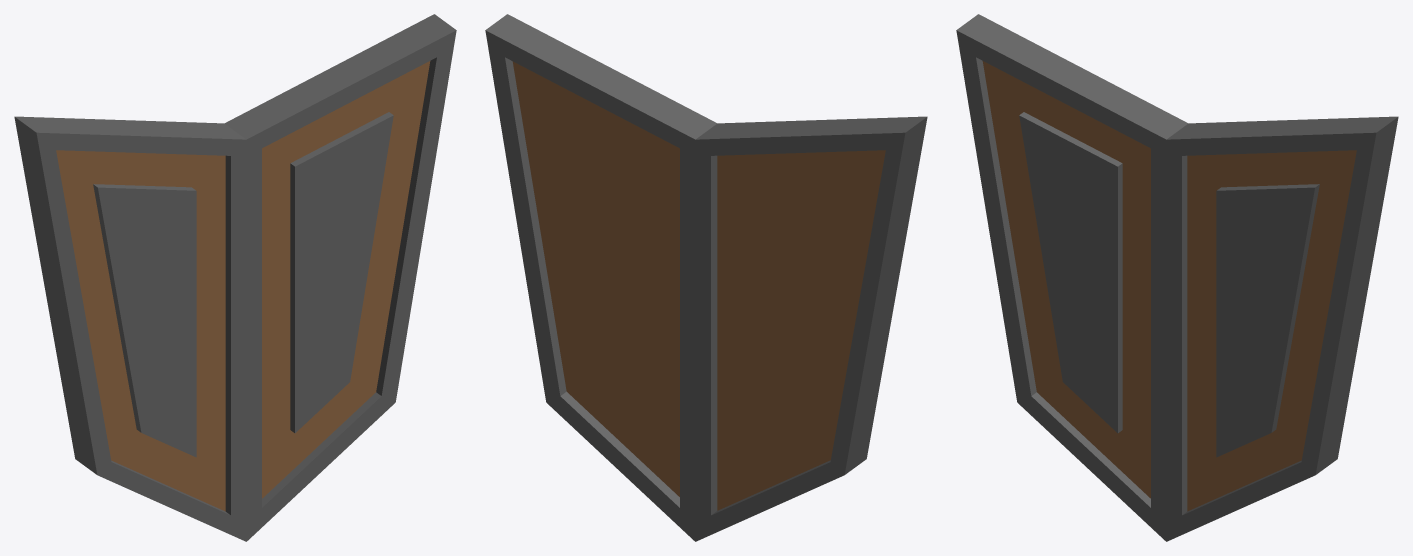
File: Shield2.dae
3 renders of one model, left to right at view 1: azimuth 30°, elevation 25°; view 2: azimuth 150°, elevation 25°; view 3: azimuth 330°, elevation 25°, orthographic.
Visible parts, largest first — view 1: Cube; view 2: Cube; view 3: Cube.
Part boxes in pixels (box(x1,y1,x2,y2)): Cube: box(14, 14, 456, 541); Cube: box(485, 14, 927, 541); Cube: box(956, 14, 1398, 541).
Bounding box in the file's own units: 2.68 × 0.2447 × 2.81.
Materials: 1 (1 with a texture image).
